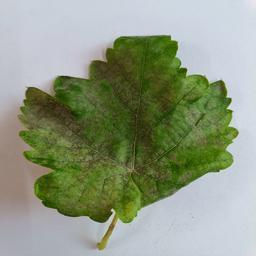Powdery-Mildew: (183, 85, 223, 149), (42, 115, 94, 160), (93, 165, 129, 207), (78, 83, 106, 112), (180, 77, 204, 92)
